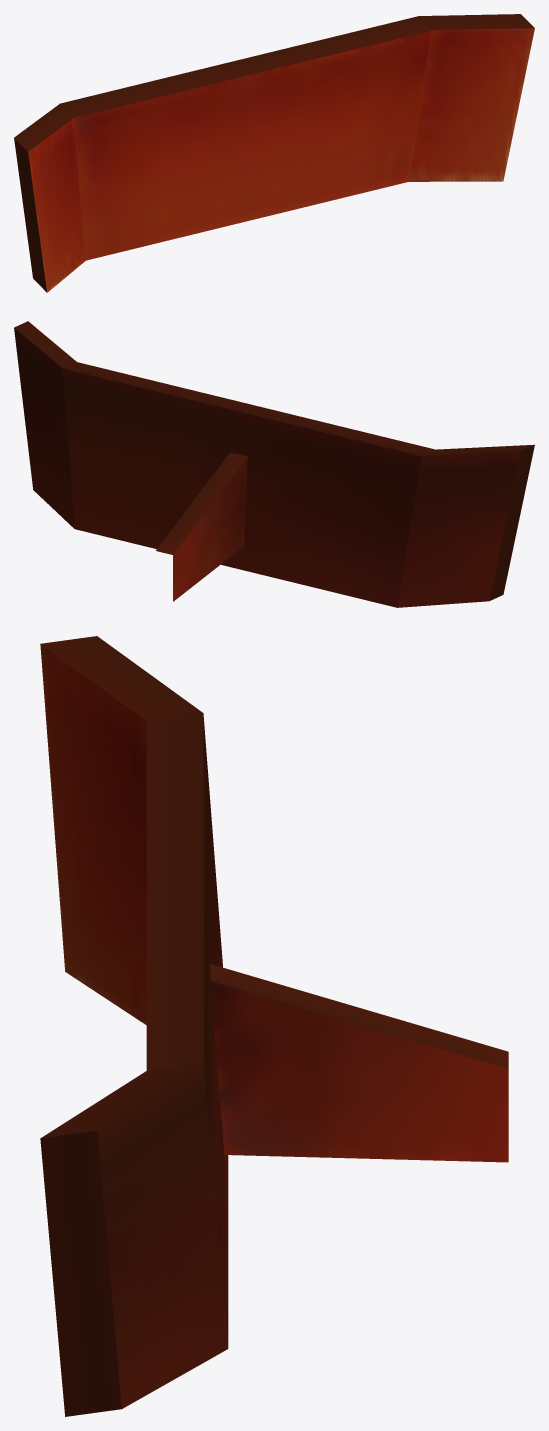
Rendered from Kart 1 Spoiler.glb.
3 renders of one model, top to bottom at view 1: azimuth 30°, elevation 25°; view 2: azimuth 150°, elevation 25°; view 3: azimuth 270°, elevation 25°, orthographic. The views are drawn at different scales.
Visible parts, largest first — view 1: spoiler; view 2: spoiler; view 3: spoiler.
Boxes of the visible parts, x1,y1,x2,y2 form: spoiler: (14, 14, 534, 292); spoiler: (14, 321, 534, 607); spoiler: (40, 636, 508, 1416).
Bounding box in the file's own units: 1.56 × 0.4654 × 0.6226.
1 material, 1 textured.
